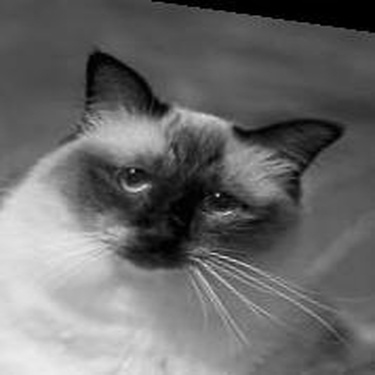cat: (4, 45, 347, 362)
